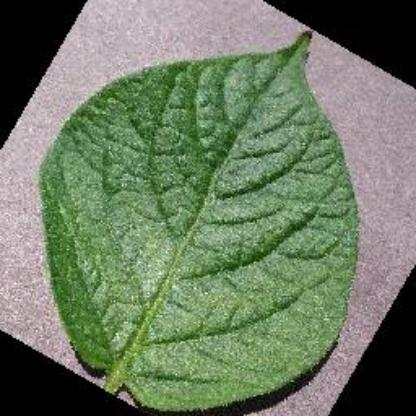Healthy-plant: (25, 15, 377, 416)
